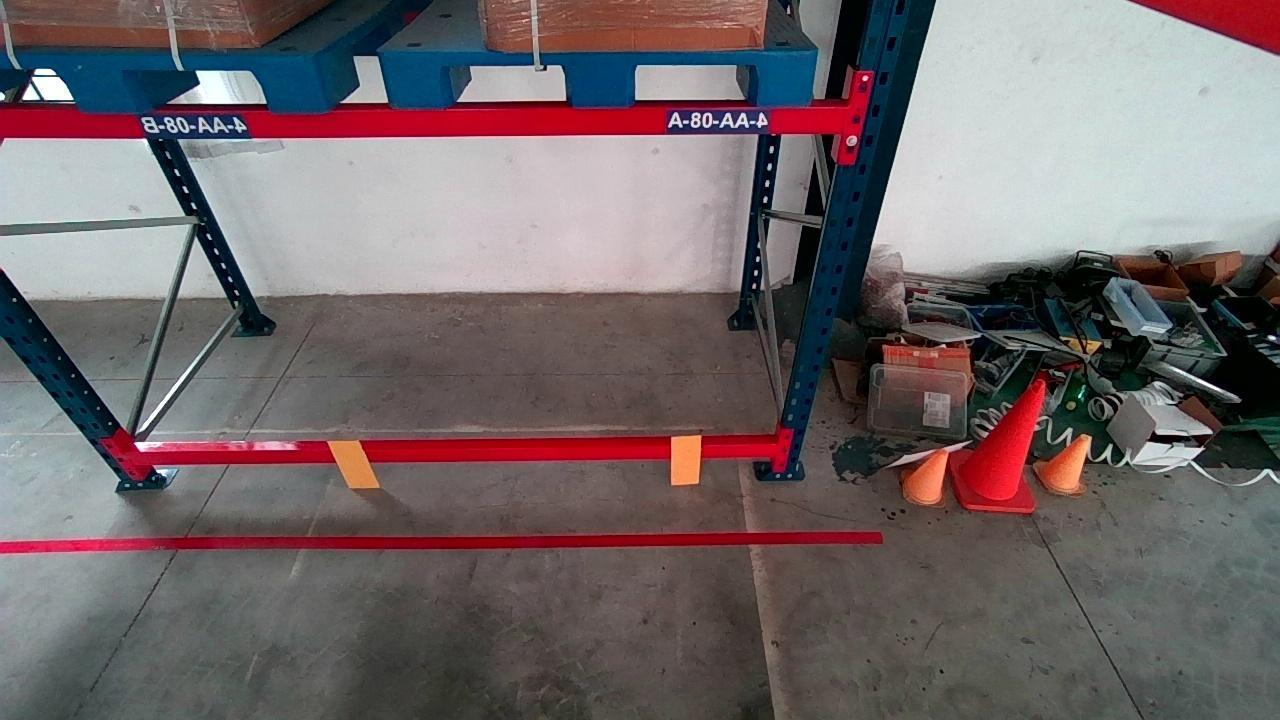h_rack: (0, 102, 844, 135), (129, 436, 775, 466)
orange_strip: (329, 438, 380, 487), (670, 433, 703, 484)
small_pallet: (392, 47, 818, 103), (0, 52, 320, 111)
